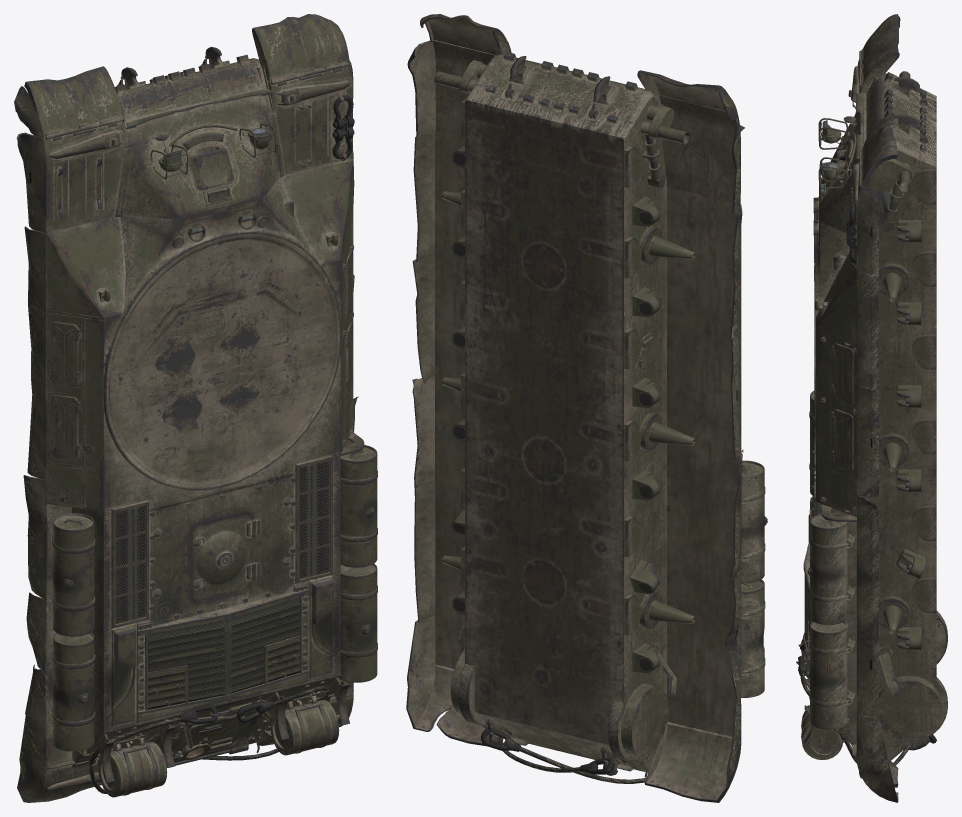
Rendered from Hull.glb.
3 renders of one model, left to right at view 1: azimuth 30°, elevation 25°; view 2: azimuth 150°, elevation 25°; view 3: azimuth 270°, elevation 25°, orthographic. The views are drawn at different scales.
Parts seen in each view (by area): view 1: set_0_group_0, set_0_group_1; view 2: set_0_group_0, set_0_group_1; view 3: set_0_group_0, set_0_group_1.
Part boxes in pixels (x1,y1,x2,y2): set_0_group_0: (14, 14, 377, 802); set_0_group_1: (89, 460, 330, 793); set_0_group_0: (406, 14, 767, 802); set_0_group_1: (481, 728, 646, 783); set_0_group_0: (801, 14, 947, 802); set_0_group_1: (796, 574, 936, 765).
Bounding box in the file's own units: 3.38 × 7 × 1.45.
2 materials, 2 textured.
